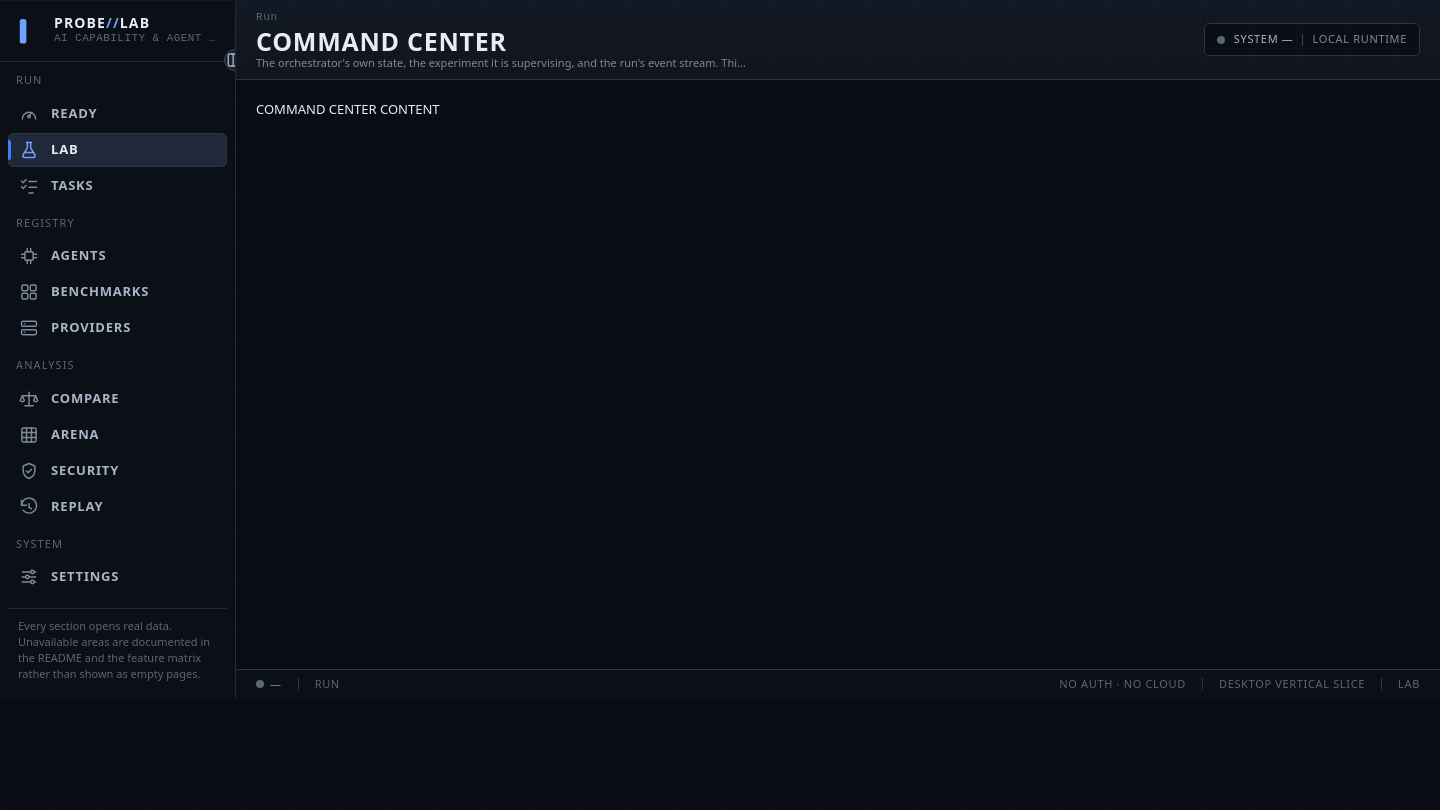
Scenario: destination navigation › names the page it is on
What coordinates should you click on to do the following:
click the button "BENCHMARKS"
I would click on:
 (118, 292)
Its box is [8,275,227,309].
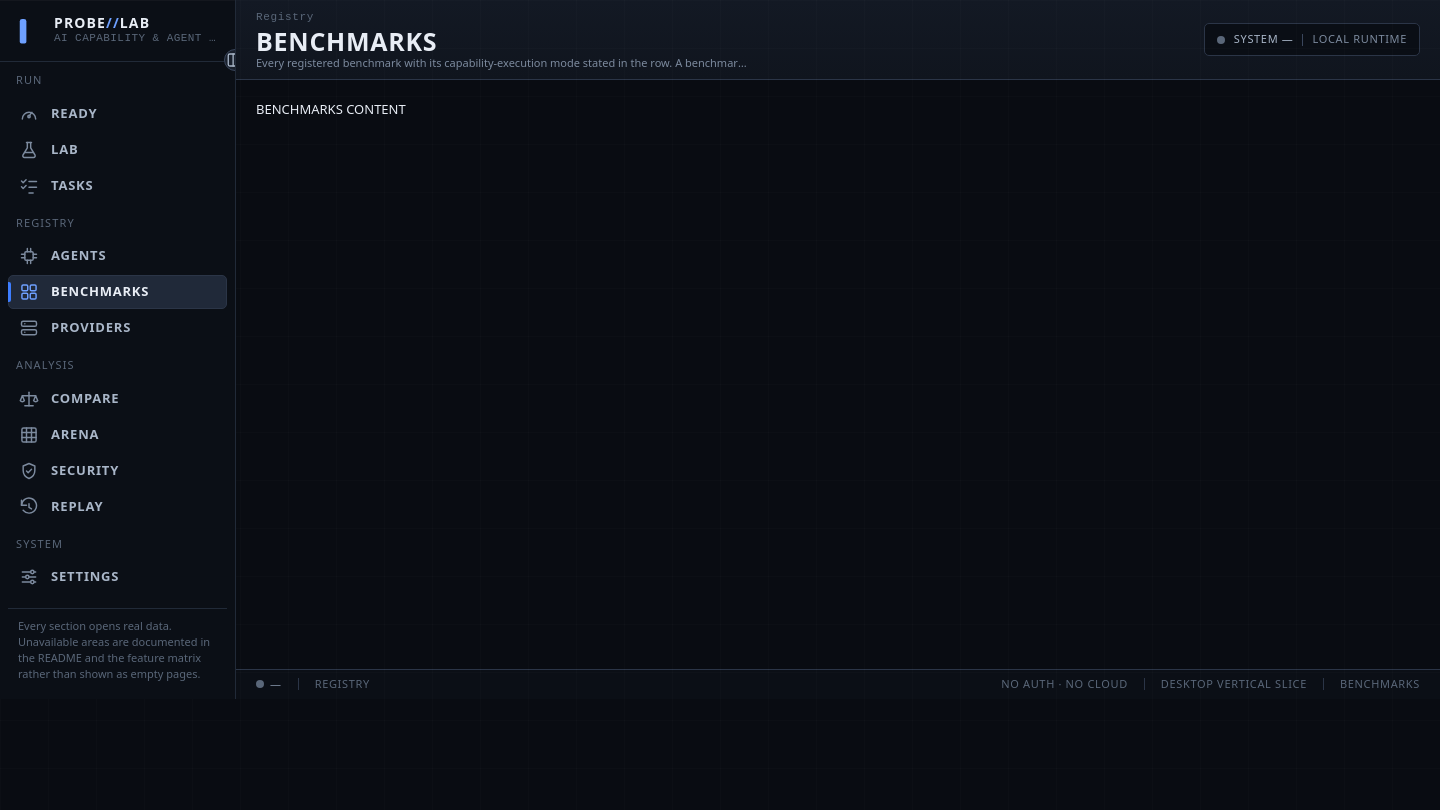
Expected: the heading reads "Benchmarks", [256,24,437,58]
